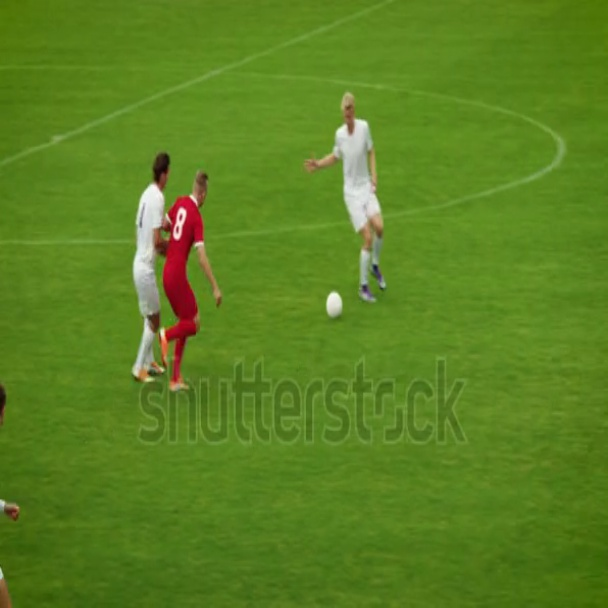ball: (328, 289, 346, 325)
